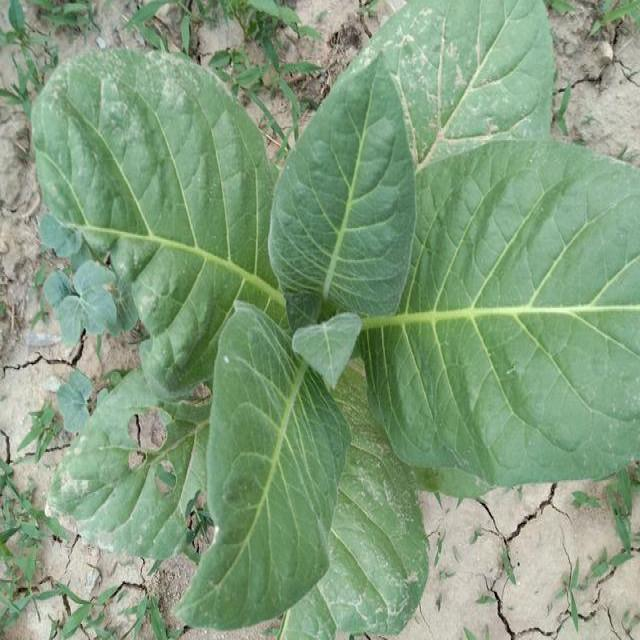crop: (39, 3, 636, 640)
